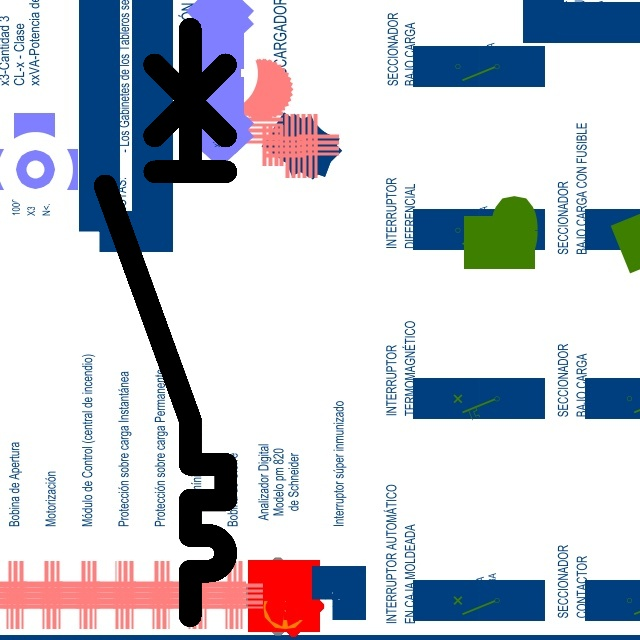interruptor_termomagnetico: (90, 14, 241, 631)
